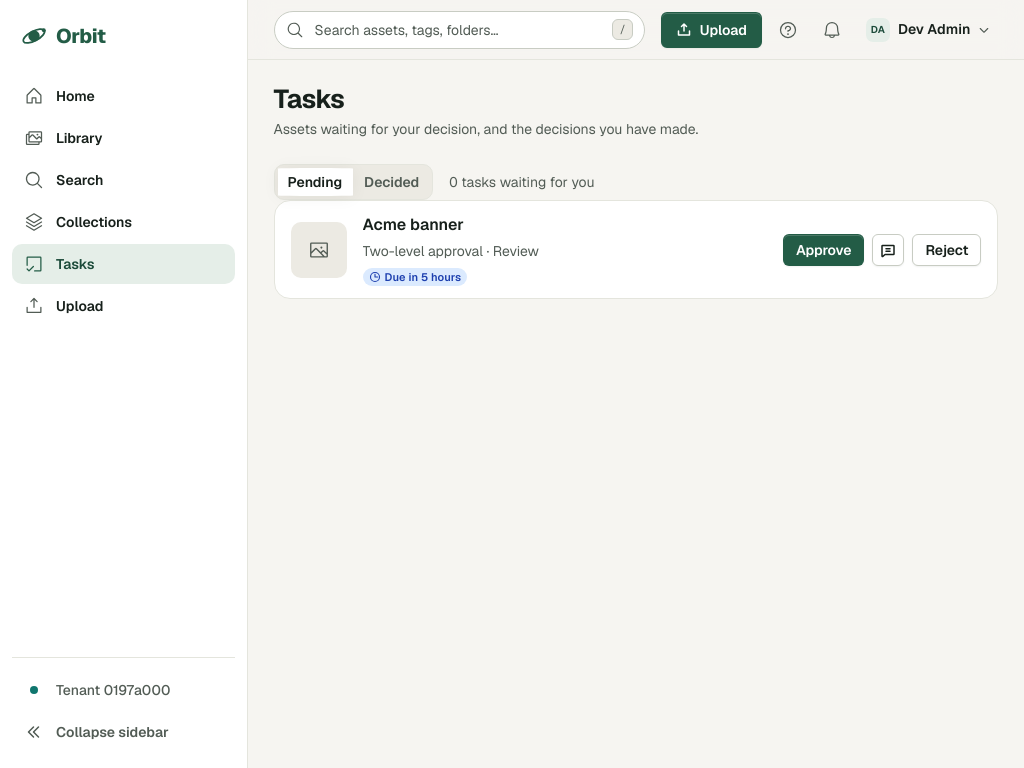
Test: Tasks inbox - deciding › reject needs a comment: the dialog refuses an empty one, then sends it
This screenshot has width=1024, height=768.
Click the button "Reject": (947, 250) [912, 234, 981, 266]
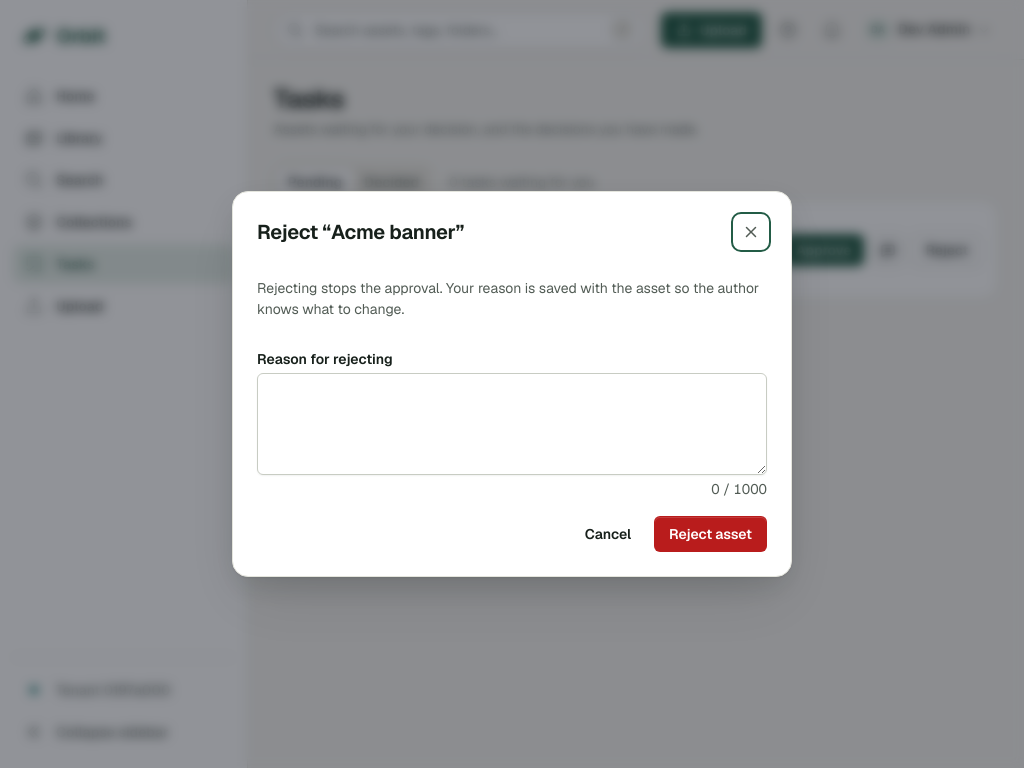
Click the button "Reject asset": (711, 534) [654, 516, 767, 552]
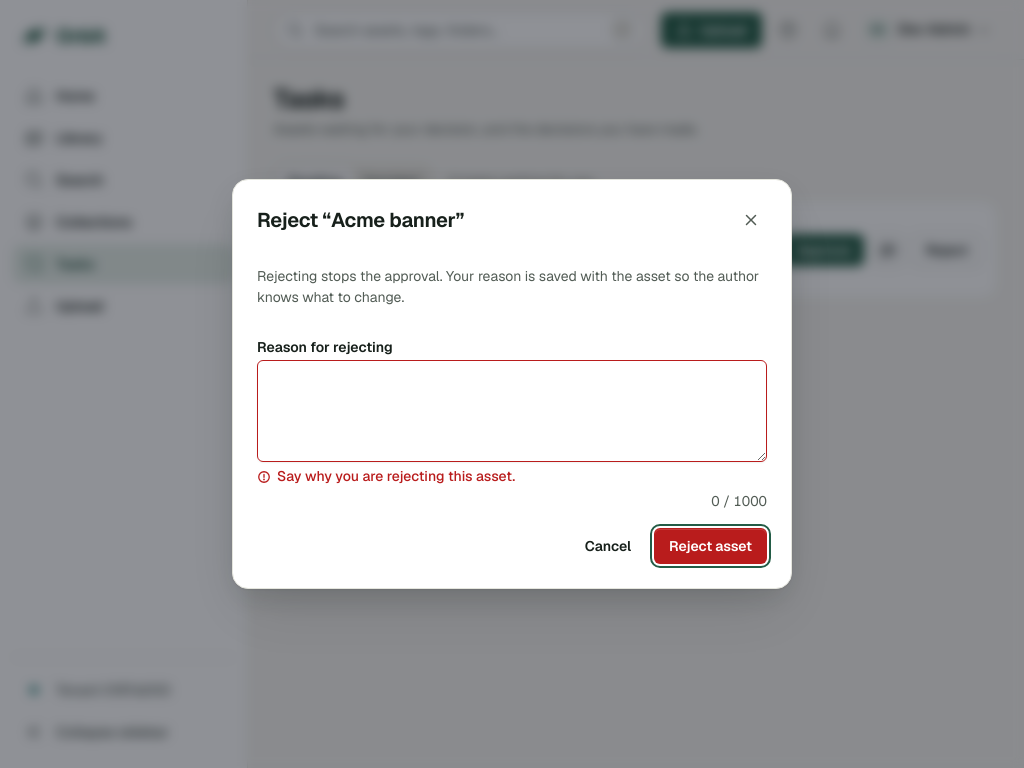
Now the text "Say why you are rejecting this asset." is shown, box [257, 467, 515, 485]
In the text box labelled "Reason for rejecting": (512, 411) [257, 360, 767, 462], type "Wrong logo version"
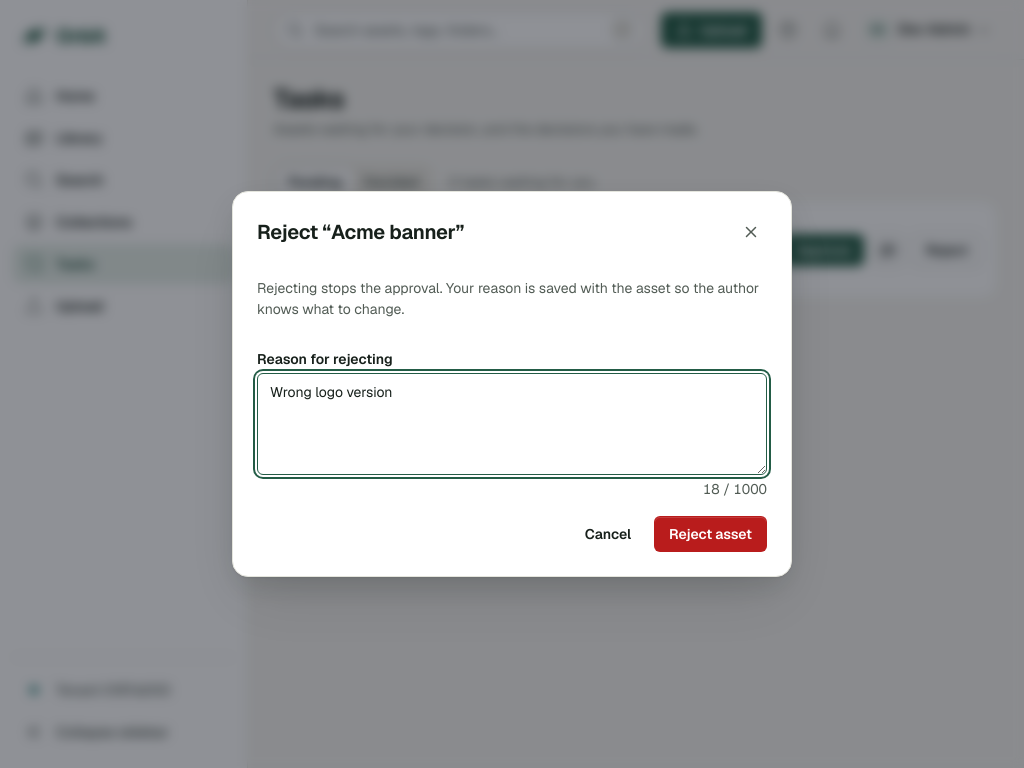
Click the button "Reject asset": (711, 534) [654, 516, 767, 552]
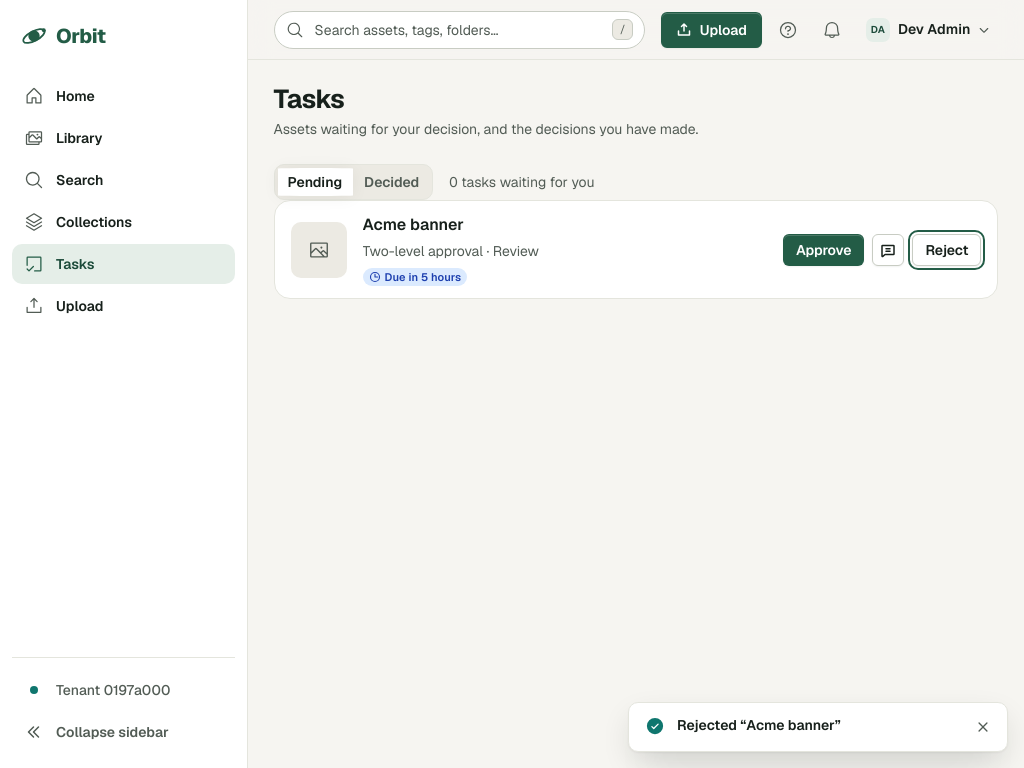
Now the text "Rejected “Acme banner”" is shown, box [677, 716, 841, 734]
